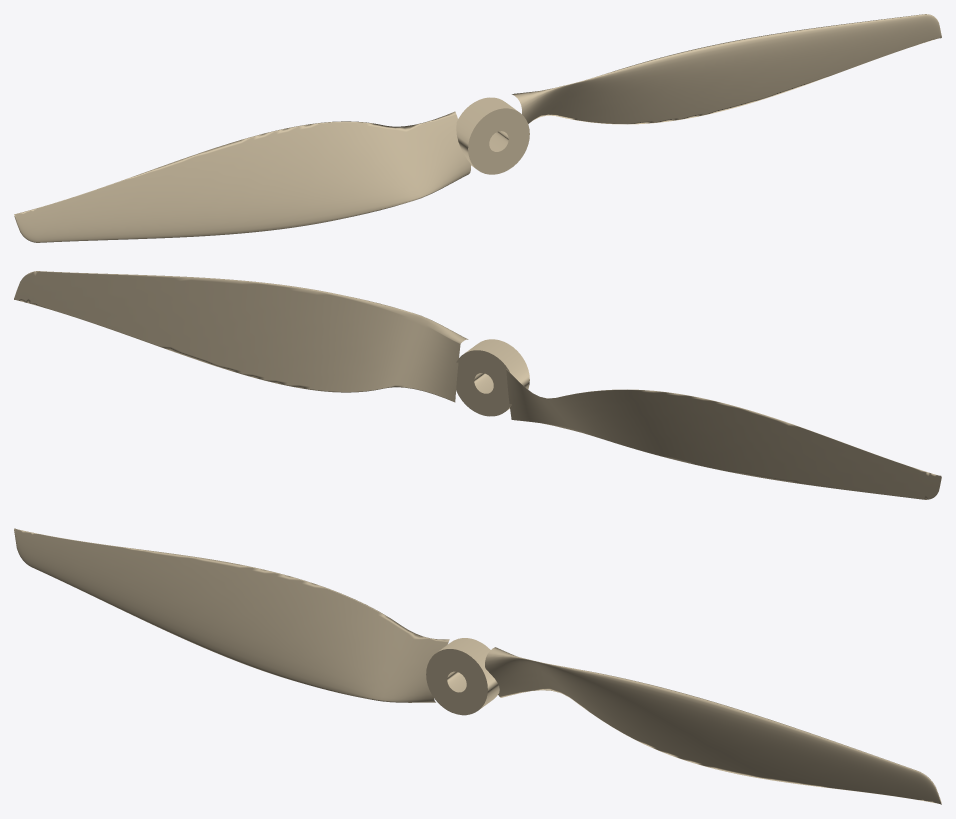
The model's file is prop_pusher.glb.
3 renders of one model, top to bottom at view 1: azimuth 30°, elevation 25°; view 2: azimuth 150°, elevation 25°; view 3: azimuth 330°, elevation 25°, orthographic.
Parts seen in each view (by area): view 1: c_9e845b; view 2: c_9e845b; view 3: c_9e845b.
Part boxes in pixels (left/top/right/bottom): c_9e845b: left=14, top=14, right=941, bottom=242; c_9e845b: left=14, top=271, right=941, bottom=499; c_9e845b: left=14, top=528, right=941, bottom=804.
Size of the model in its own units: 0.3048 by 0.028 by 0.0161.
